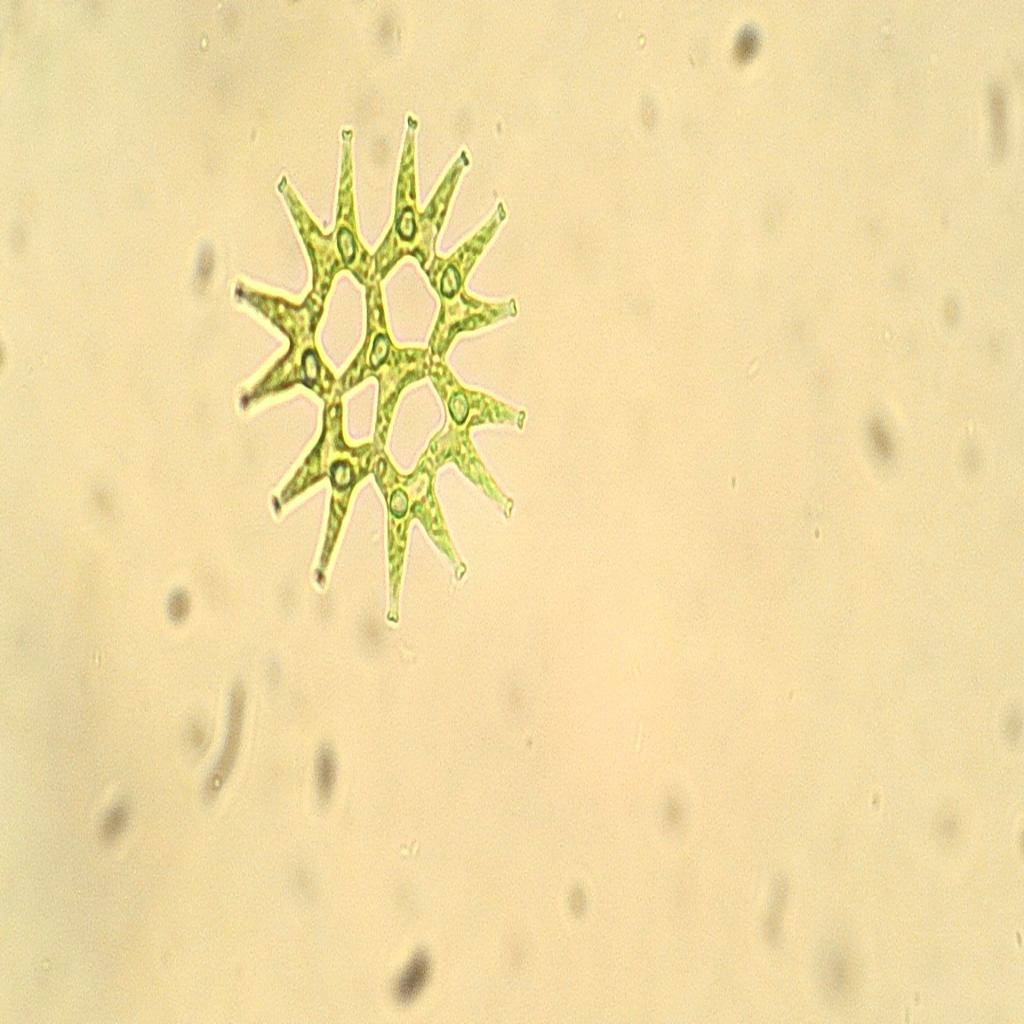Pediastrum_CTH: (223, 96, 537, 646)
